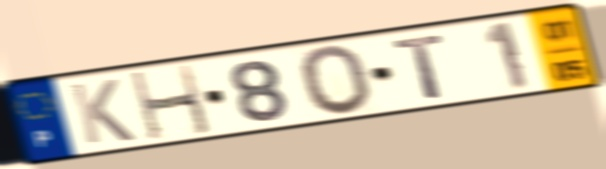1: (482, 18, 533, 93)
8: (228, 58, 292, 123)
H: (126, 62, 216, 143)
K: (66, 77, 139, 147)
O: (296, 43, 376, 119)
T: (390, 31, 449, 101)
